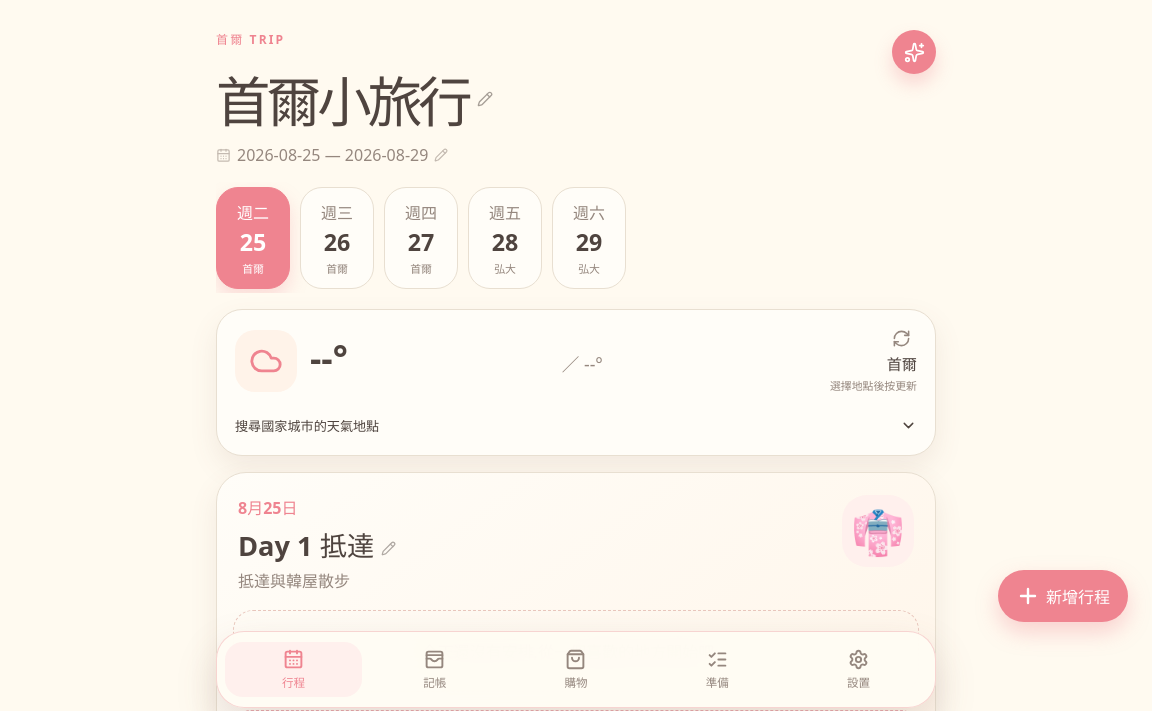
it: travel app integration › navigates across the five primary tabs
Expected: the button "首爾小旅行" is shown, [216, 59, 493, 138]
Click the link "記帳".
click(435, 670)  # box [423, 649, 446, 690]
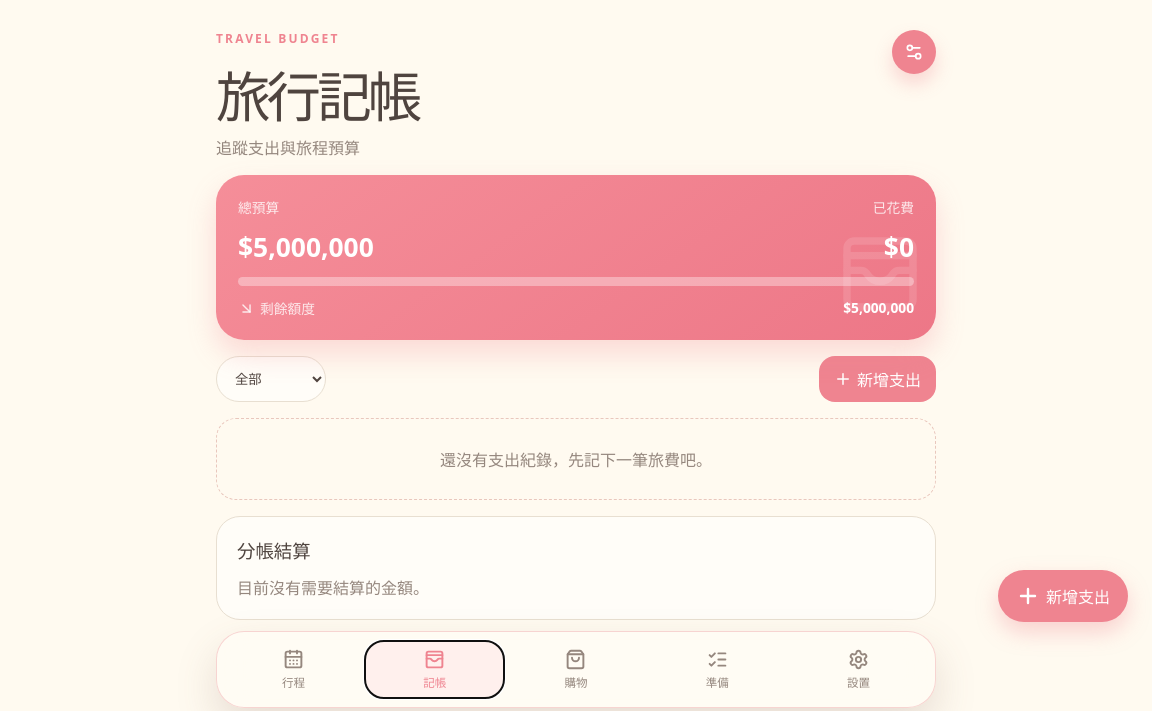
Result: the heading "旅行記帳" is shown at [216, 54, 418, 133]
Click the link "購物".
click(576, 670)  # box [564, 649, 588, 690]
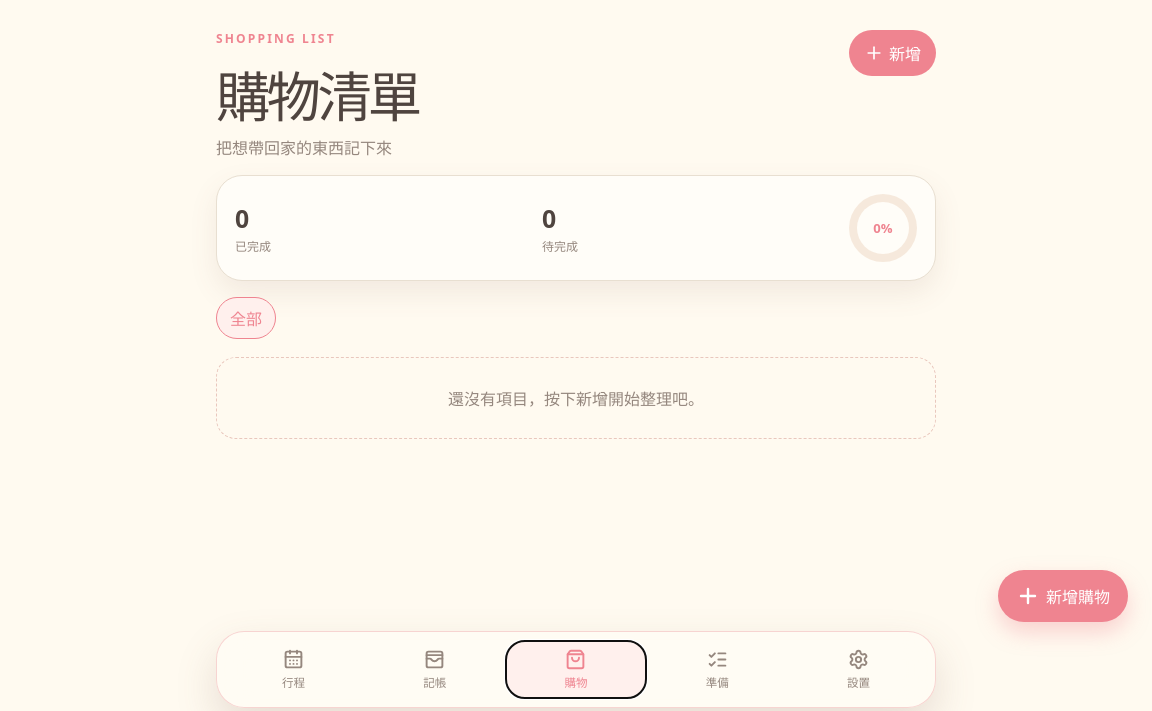
Result: the heading "購物清單" is shown at [216, 54, 418, 133]
Click the link "準備".
click(717, 670)  # box [706, 649, 729, 690]
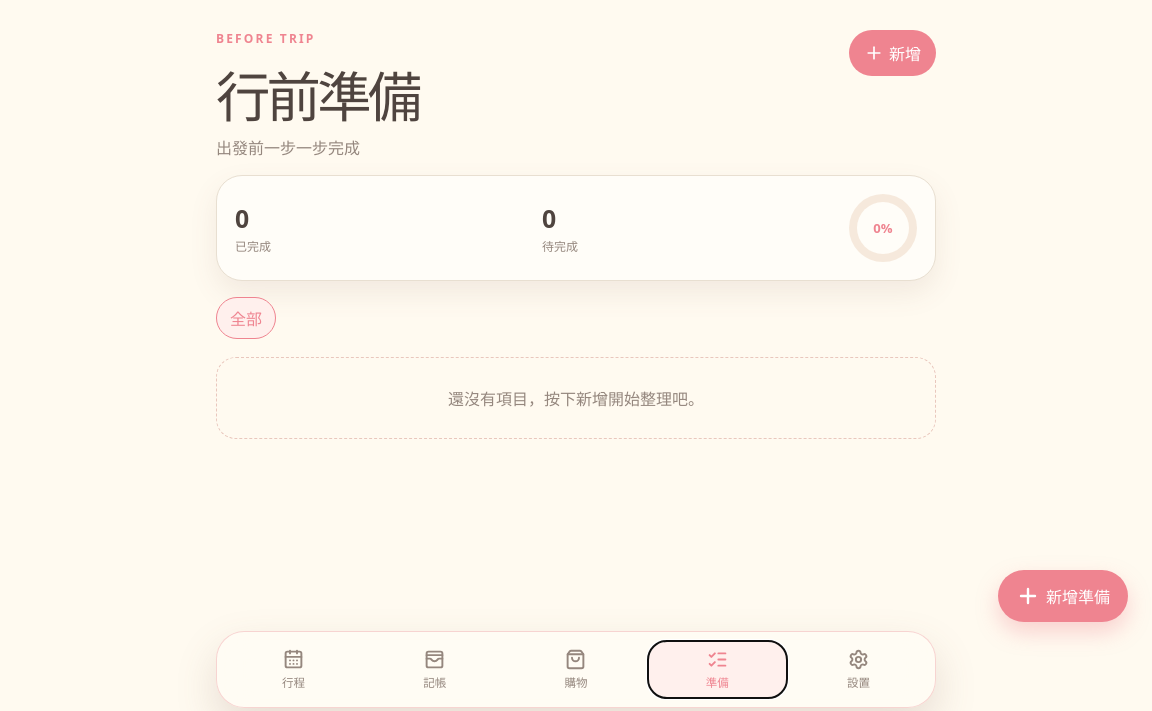
Result: the heading "行前準備" is shown at [216, 54, 418, 133]
Click the link "設置".
click(858, 670)  # box [847, 649, 870, 690]
(page scrolled)
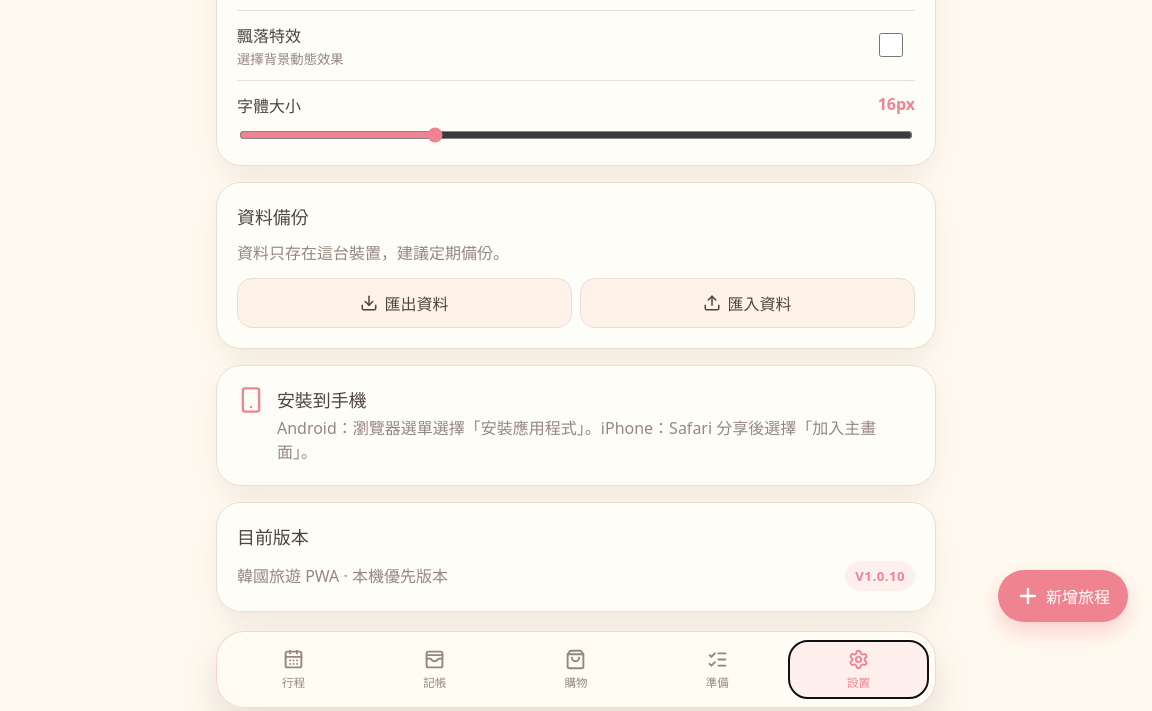
Result: the text "V1.0.10" is shown at [845, 561, 915, 591]
